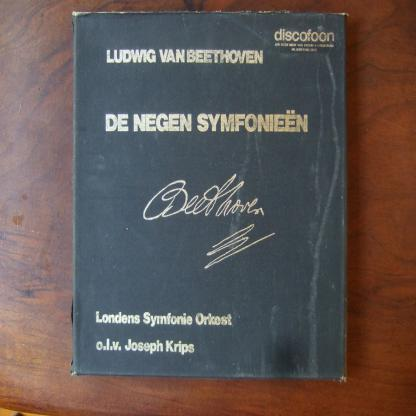book: (60, 6, 360, 387)
